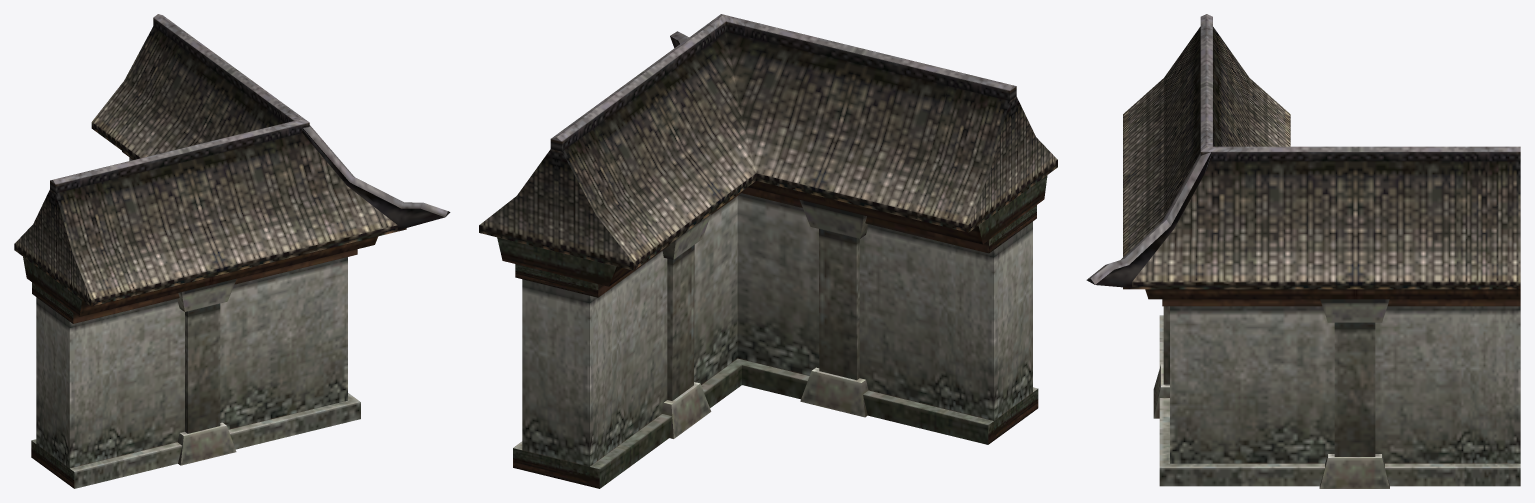
File: wall_corner.glb
3 views of the same model, side by side, from view 1: azimuth 30°, elevation 25°; view 2: azimuth 150°, elevation 25°; view 3: azimuth 270°, elevation 25° (orthographic). The views are drawn at different scales.
Visible parts, largest first — view 1: b1-038-wall.001; view 2: b1-038-wall.001; view 3: b1-038-wall.001.
Part boxes in pixels (bbox=[...]): b1-038-wall.001: bbox=[14, 14, 450, 488]; b1-038-wall.001: bbox=[479, 14, 1057, 488]; b1-038-wall.001: bbox=[1086, 14, 1520, 488].
Size of the model in its own units: 556 by 450 by 554.
Materials: 1 (1 with a texture image).
